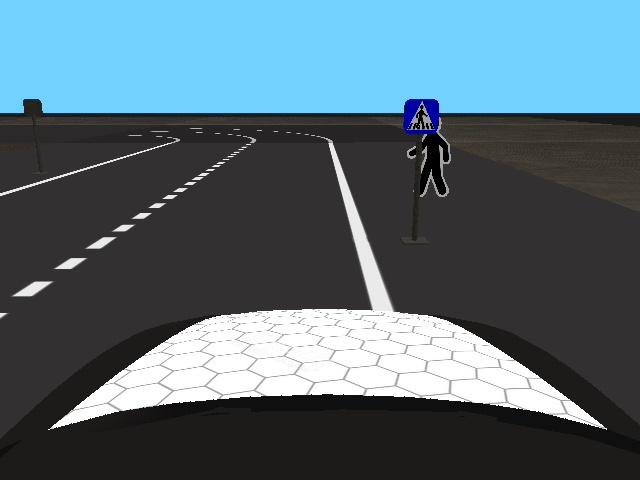pedestrian_cross: (402, 99, 440, 133)
